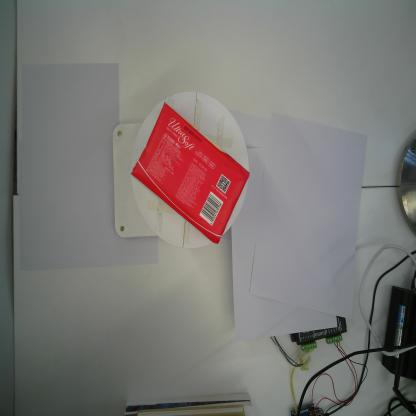Tissue: (130, 101, 251, 245)
